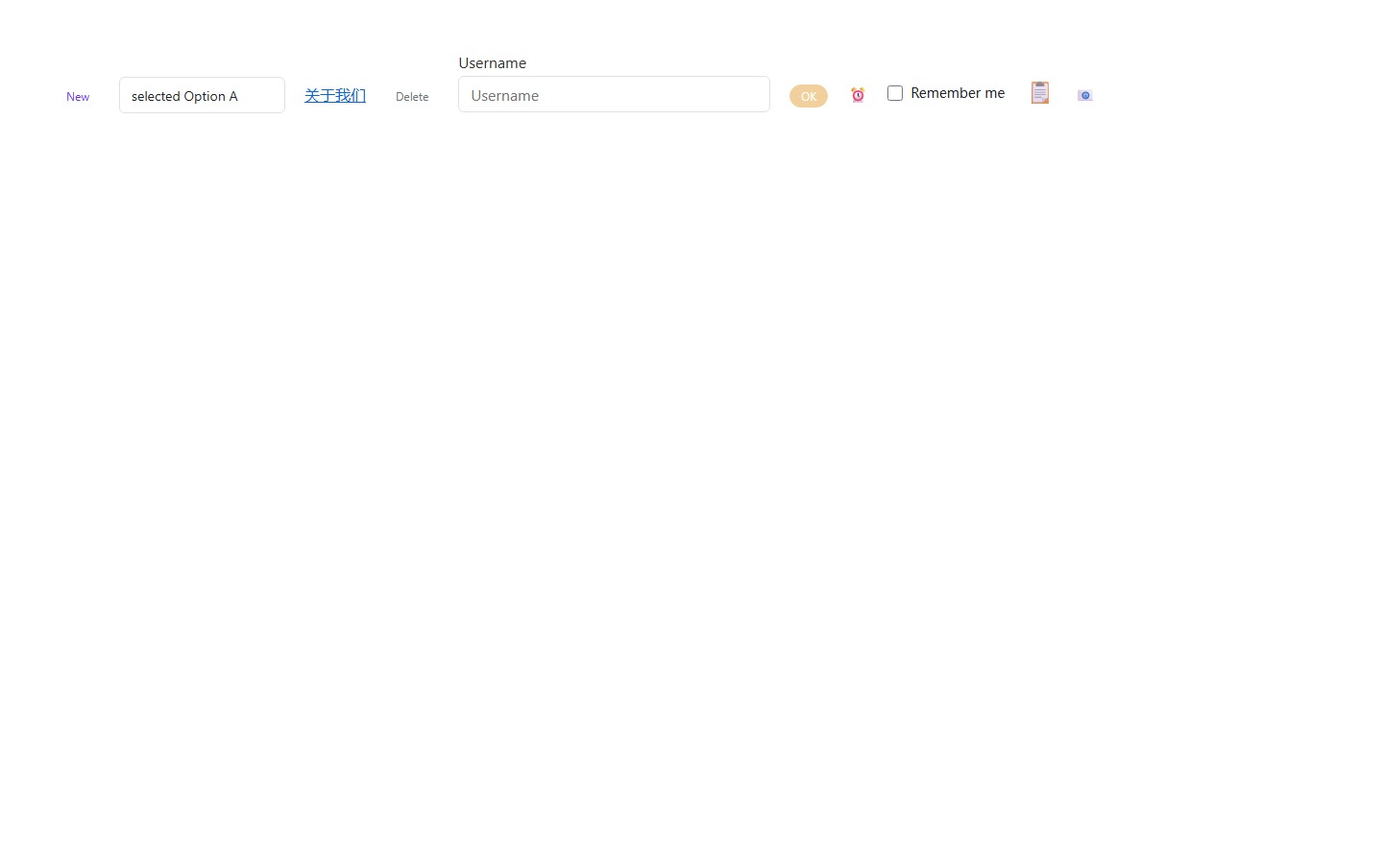button: (385, 85, 439, 106), (56, 85, 100, 106), (790, 84, 828, 107)
checkbox: (888, 85, 903, 100)
icon: (911, 84, 1005, 102), (1024, 79, 1056, 102), (847, 87, 868, 102), (1075, 87, 1096, 102)
input: (458, 76, 770, 112)
link: (304, 84, 366, 104)
radio: (888, 84, 1005, 102)
select: (119, 77, 285, 113)
